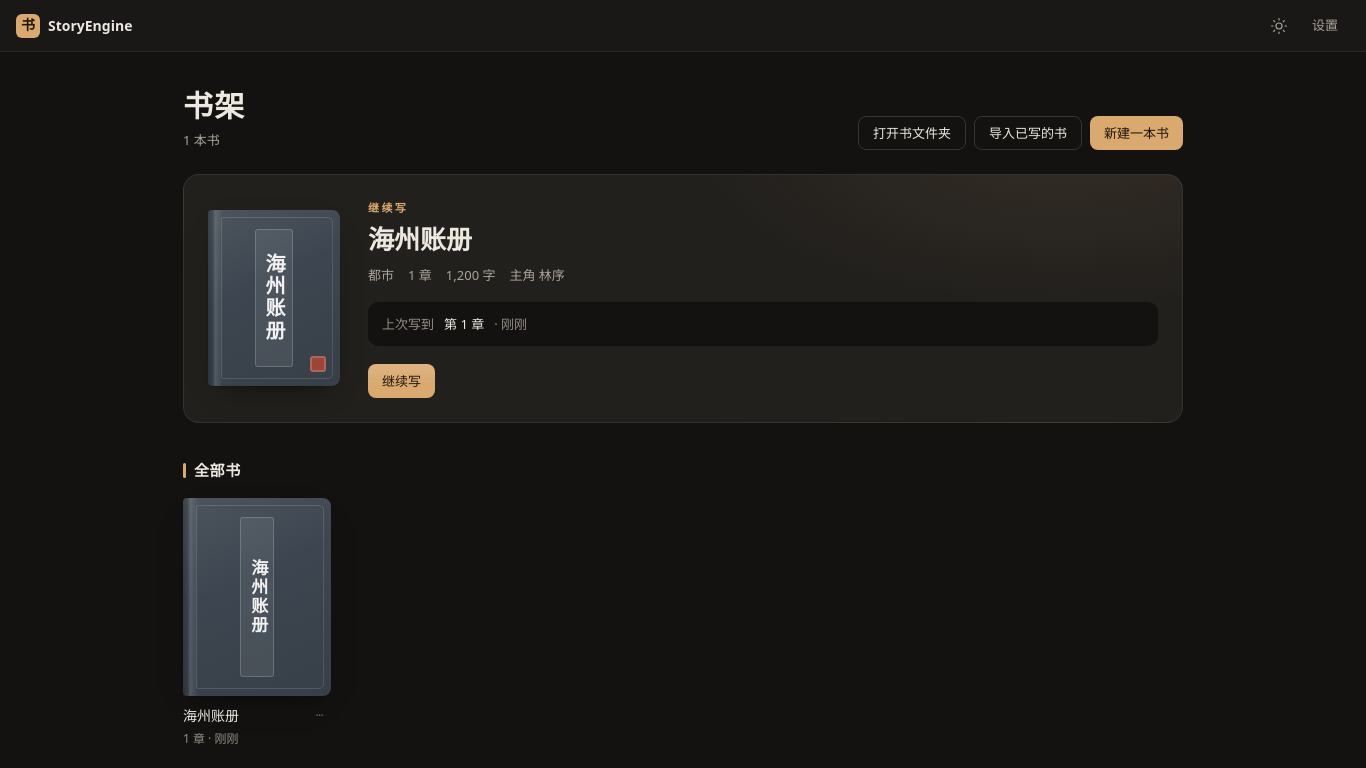
Test case: HomeLanding › 菜单「归档」：调接口、书挪进已归档
Click the button named "书籍管理": (319, 717) x1=307 y1=706 x2=331 y2=728
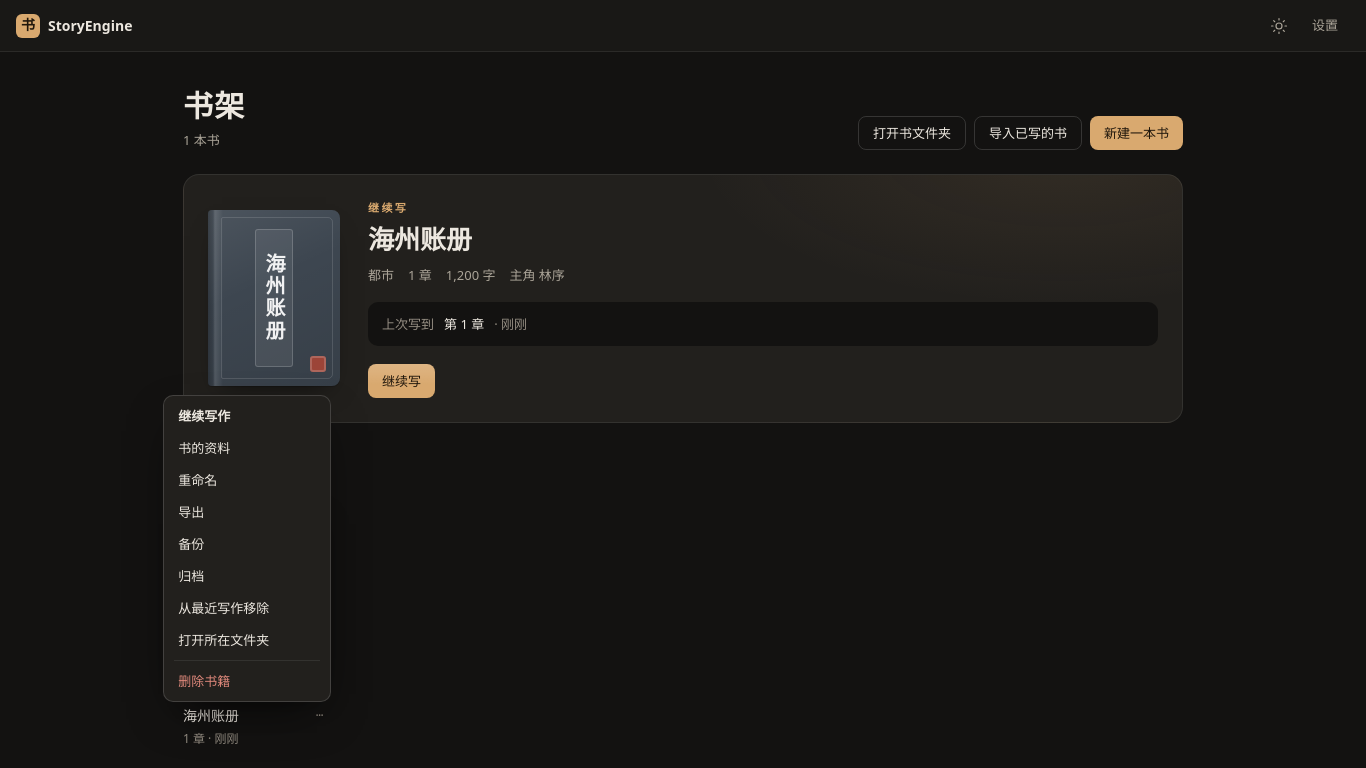
Click the button "归档": (247, 576) x1=168 y1=560 x2=326 y2=592
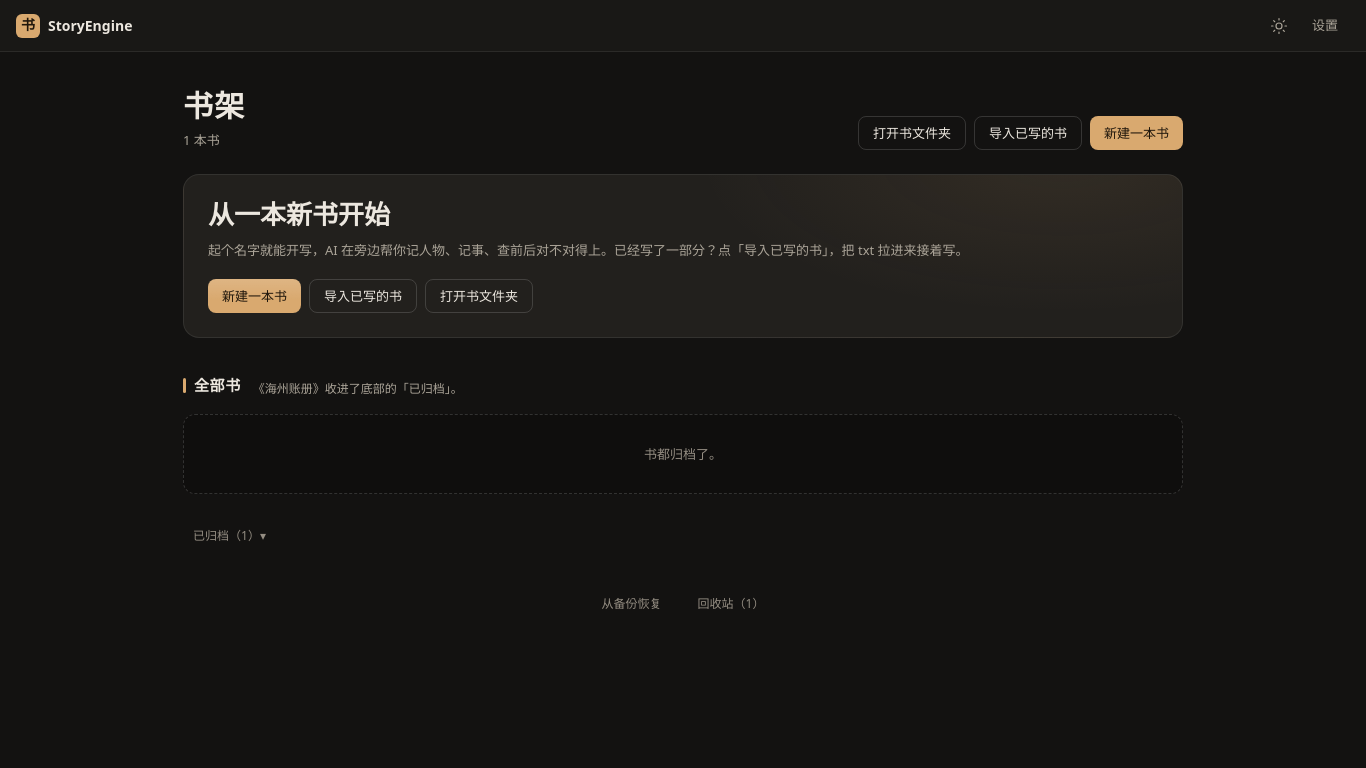
Expected: the text "《海州账册》收进了底部的「已归档」。" is shown, x1=253 y1=380 x2=463 y2=398
Expected: the button "已归档（1）▾" is shown, x1=183 y1=522 x2=276 y2=550
